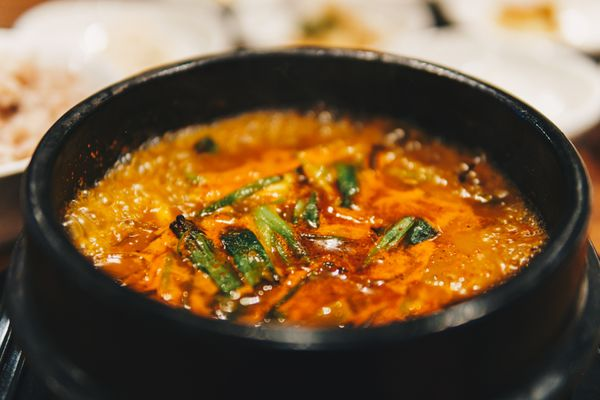sushi: (22, 44, 593, 365)
